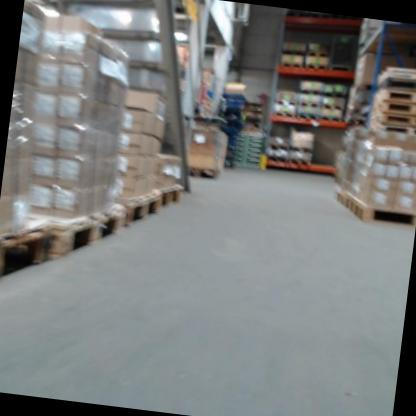pallet: (49, 200, 126, 269), (0, 220, 56, 292), (372, 76, 416, 128), (352, 198, 416, 227), (122, 189, 162, 230), (158, 183, 184, 210), (187, 164, 224, 180), (372, 122, 416, 135), (343, 192, 357, 211), (304, 60, 328, 71), (281, 47, 305, 57), (305, 49, 329, 59), (321, 101, 344, 111), (266, 142, 289, 152), (320, 114, 344, 123), (289, 145, 313, 154), (287, 157, 310, 166), (266, 155, 288, 164), (298, 99, 319, 108), (335, 187, 346, 203), (281, 61, 303, 69), (275, 98, 297, 106), (297, 112, 319, 120), (273, 110, 295, 118)
